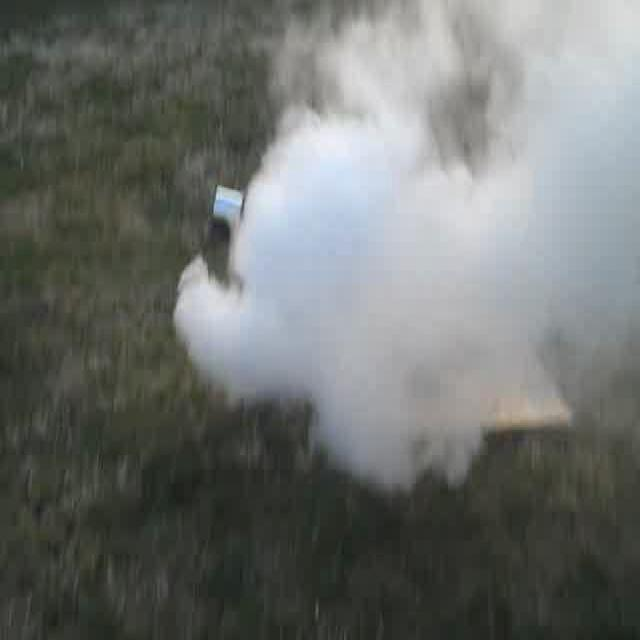Smoke: (196, 14, 634, 443)
